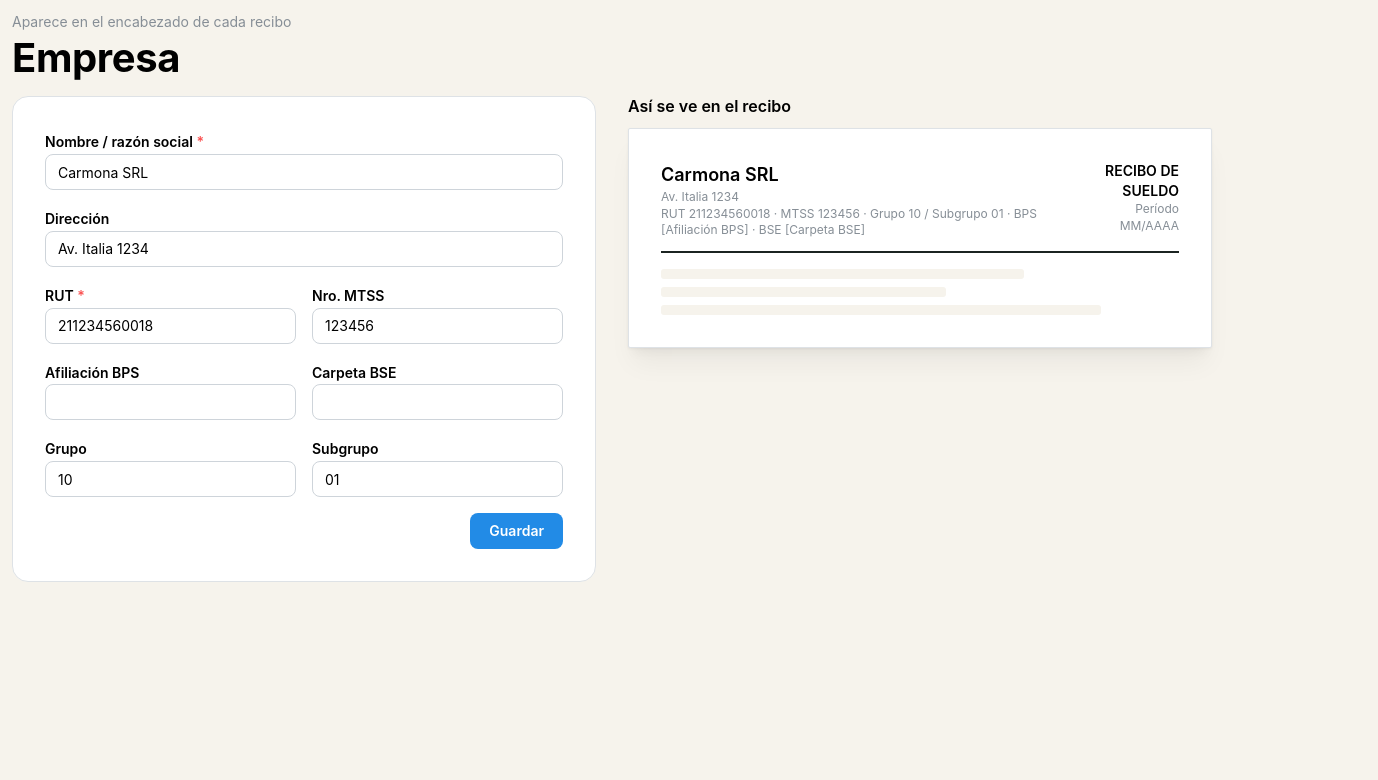
Test case: EmpresaPage › shows the API error when saving fails
Click the button "Guardar" at (517, 531), box [470,513,563,549]
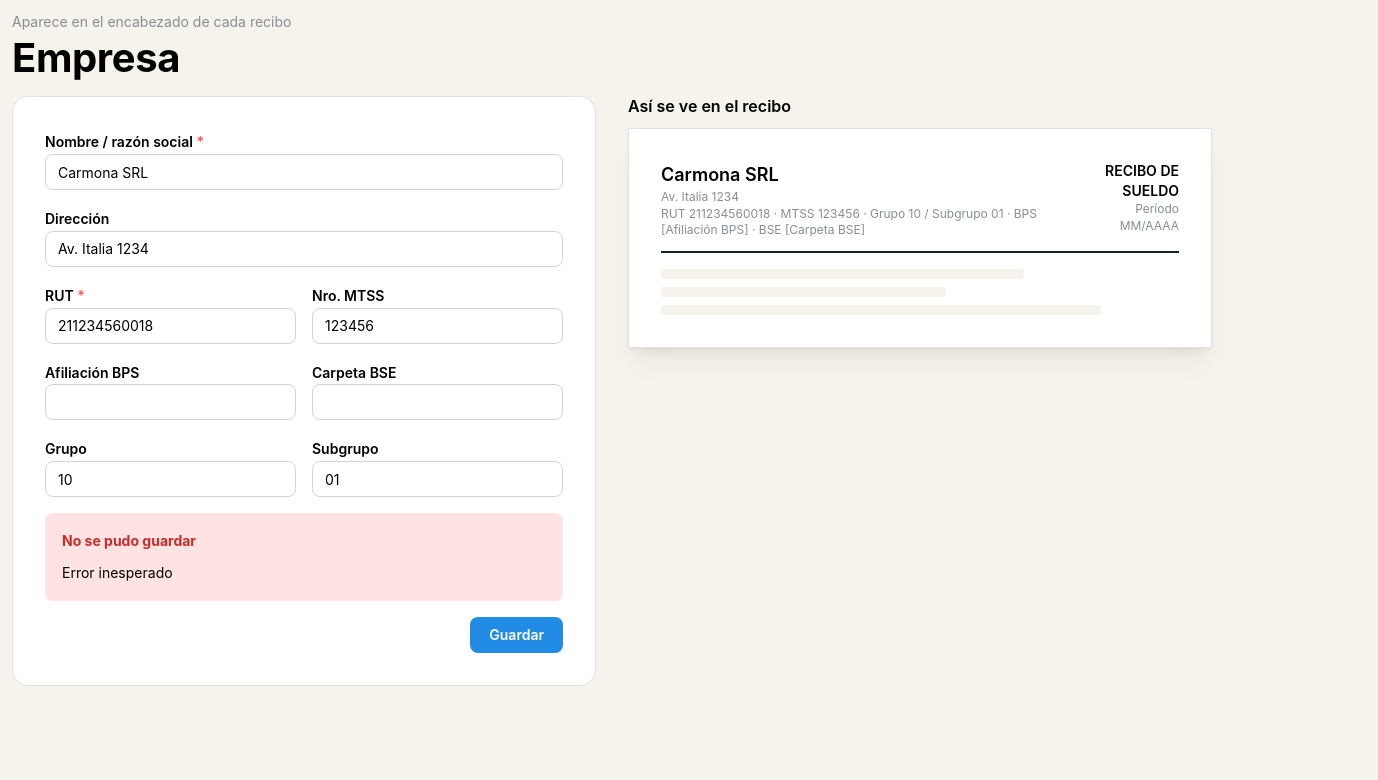
Expected: the text "Error inesperado" is shown, [62,564,173,581]
Expected: the text "No se pudo guardar" is shown, [62,530,196,552]
